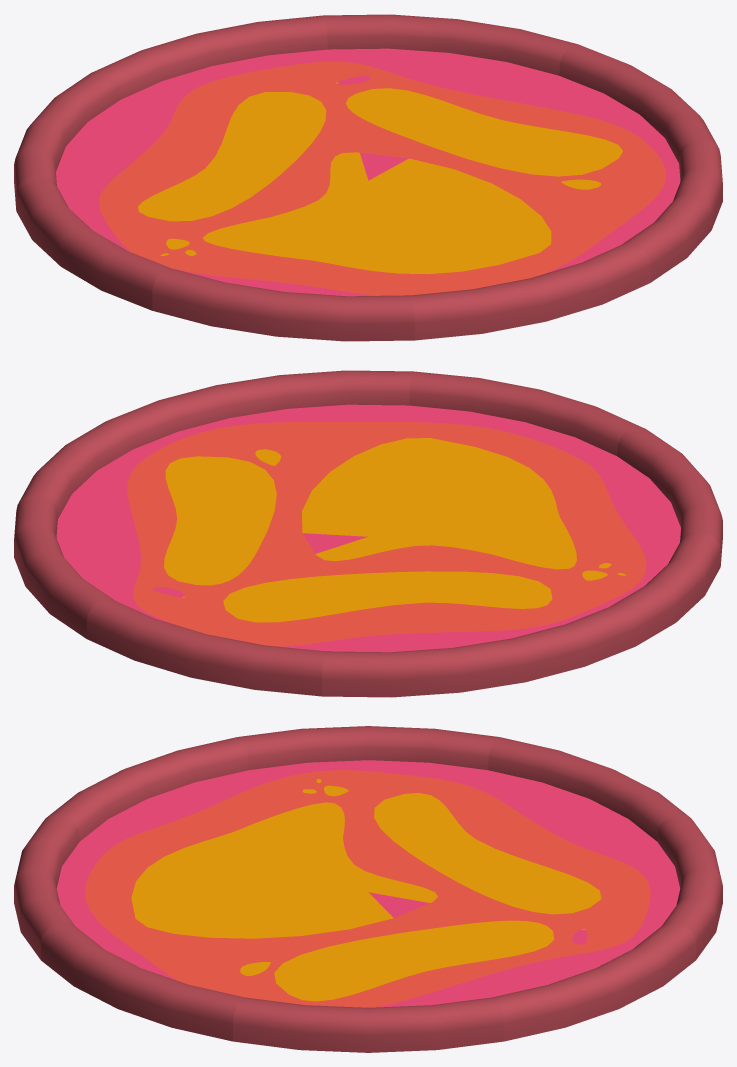
The model's file is Dough Beetroot.fbx.
3 renders of one model, top to bottom at view 1: azimuth 30°, elevation 25°; view 2: azimuth 150°, elevation 25°; view 3: azimuth 270°, elevation 25°, orthographic.
Visible parts, largest first — view 1: Dough.023, Dough.019, Dough.022, Dough.018, Dough.024, Dough.020, Dough.021, Dough.025; view 2: Dough.025, Dough.021, Dough.018, Dough.022, Dough.024, Dough.020, Dough.019, Dough.023; view 3: Dough.024, Dough.020, Dough.019, Dough.021, Dough.023, Dough.025, Dough.018, Dough.022.
Boxes of the visible parts, x1,y1,x2,y2 form: Dough.023: (152,181,414,341); Dough.019: (323,14,577,180); Dough.022: (368,181,650,340); Dough.018: (96,15,368,180); Dough.024: (16,176,367,310); Dough.020: (369,44,718,180); Dough.021: (369,140,722,282); Dough.025: (14,71,367,209); Dough.025: (322,537,584,697); Dough.021: (159,370,413,536); Dough.018: (86,537,368,696); Dough.022: (368,371,640,536); Dough.024: (369,532,720,666); Dough.020: (18,400,367,536); Dough.019: (14,496,367,638); Dough.023: (369,427,722,565); Dough.024: (237,726,499,891); Dough.020: (233,892,503,1052); Dough.019: (369,892,695,1041); Dough.021: (41,892,367,1041); Dough.023: (46,737,367,891); Dough.025: (369,737,690,891); Dough.018: (369,815,722,959); Dough.022: (14,815,367,959).
Bounding box in the file's own units: 2 × 0.1032 × 2.
